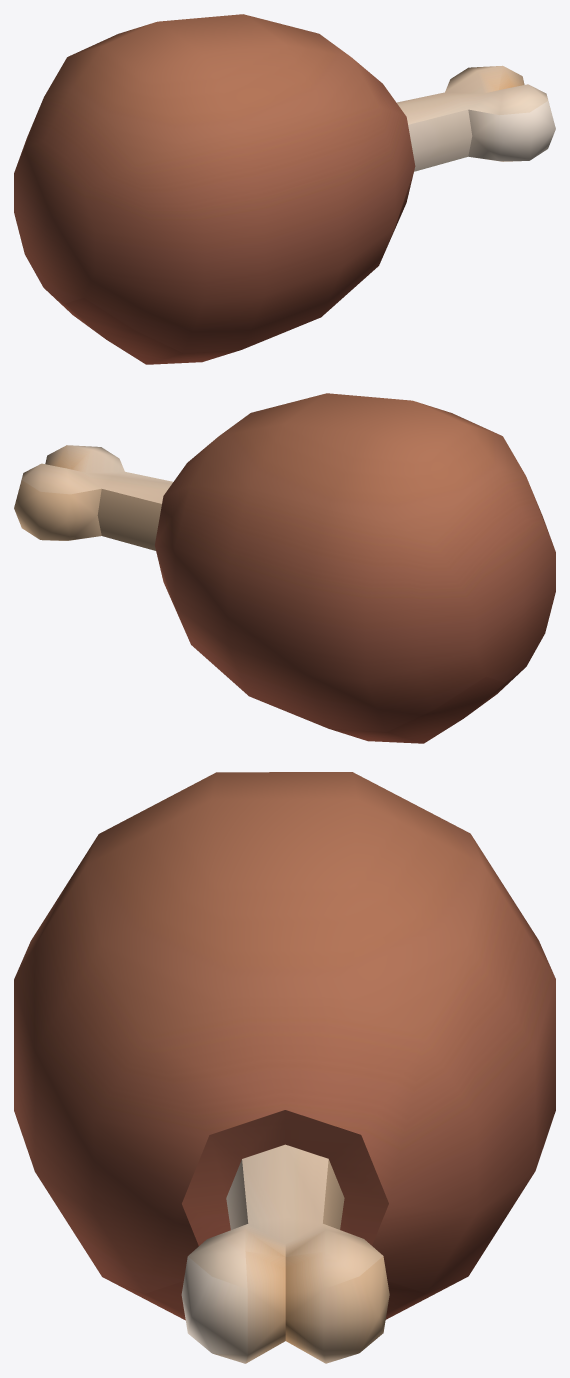
Rendered from roast.glb.
3 renders of one model, top to bottom at view 1: azimuth 30°, elevation 25°; view 2: azimuth 150°, elevation 25°; view 3: azimuth 270°, elevation 25°, orthographic. The views are drawn at different scales.
Visible parts, largest first — view 1: food_ingredient_ham_cooked; view 2: food_ingredient_ham_cooked; view 3: food_ingredient_ham_cooked.
Part boxes in pixels (x1,y1,x2,y2): food_ingredient_ham_cooked: (14, 14, 555, 364); food_ingredient_ham_cooked: (14, 393, 555, 743); food_ingredient_ham_cooked: (14, 772, 555, 1363).
Bounding box in the file's own units: 1.39 × 0.83 × 0.83.
1 material, 1 textured.
